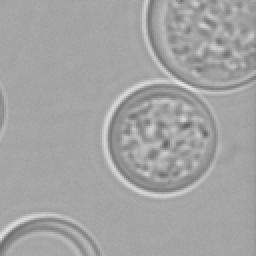picoshell: (102, 80, 218, 196), (142, 0, 254, 92), (0, 212, 102, 254), (0, 82, 6, 140)
